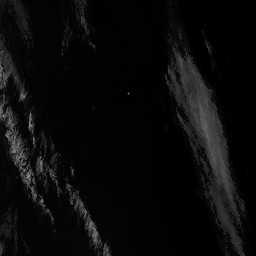Target: (126, 90, 131, 95)
